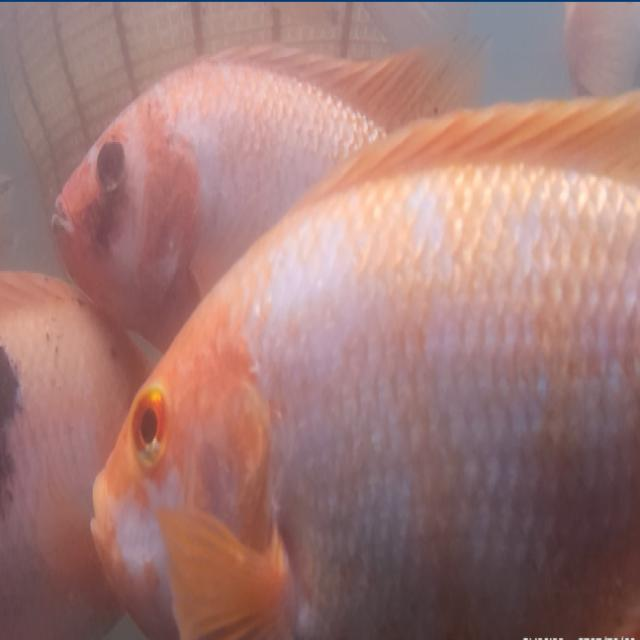ikan: (85, 70, 584, 619), (34, 75, 253, 296)
